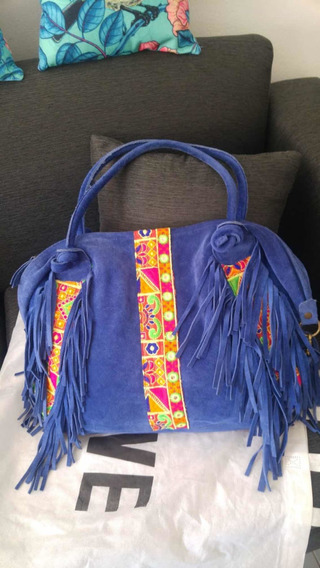cartera: (13, 138, 320, 438)
